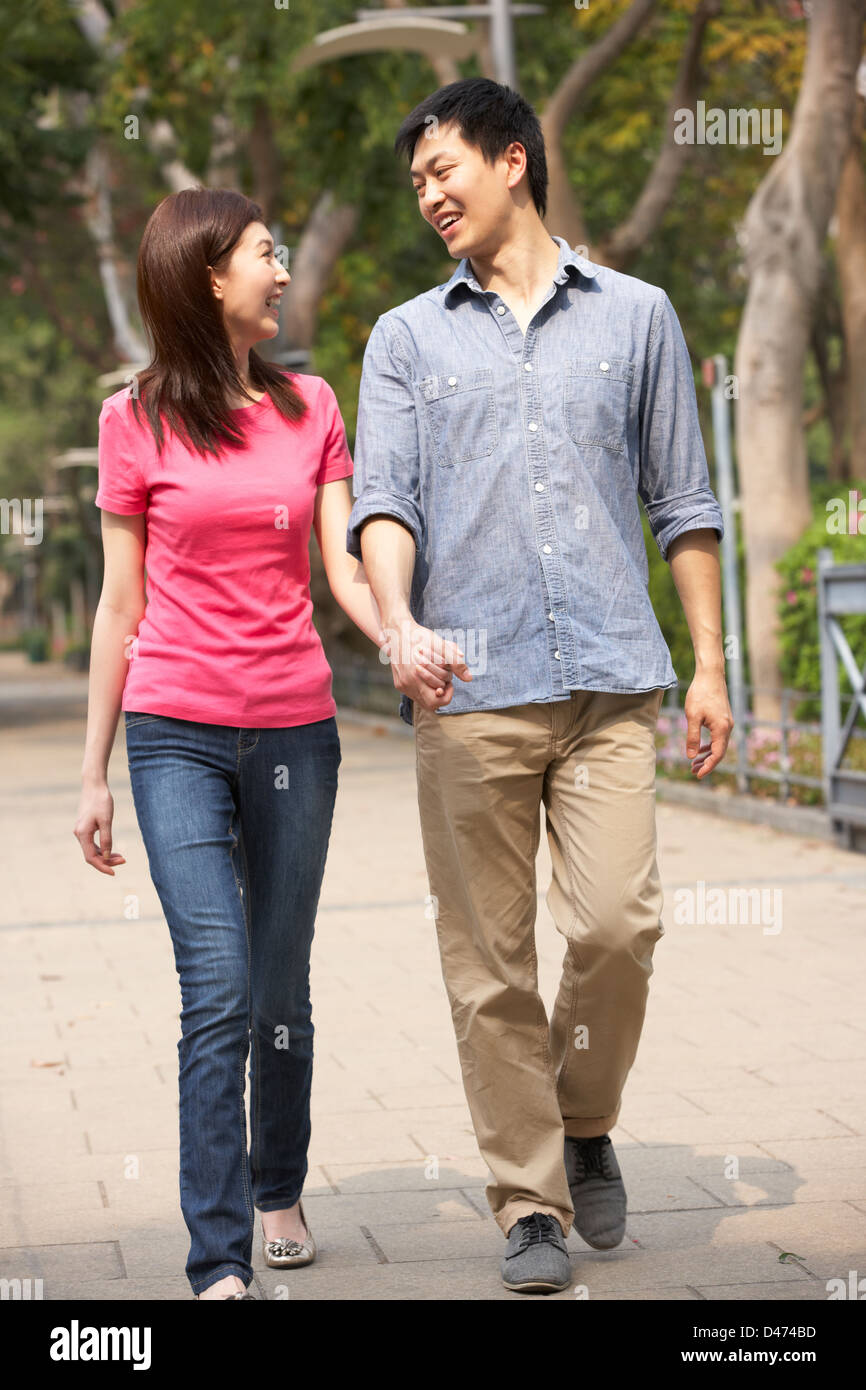person: (353, 72, 733, 1290), (70, 183, 357, 1300)
